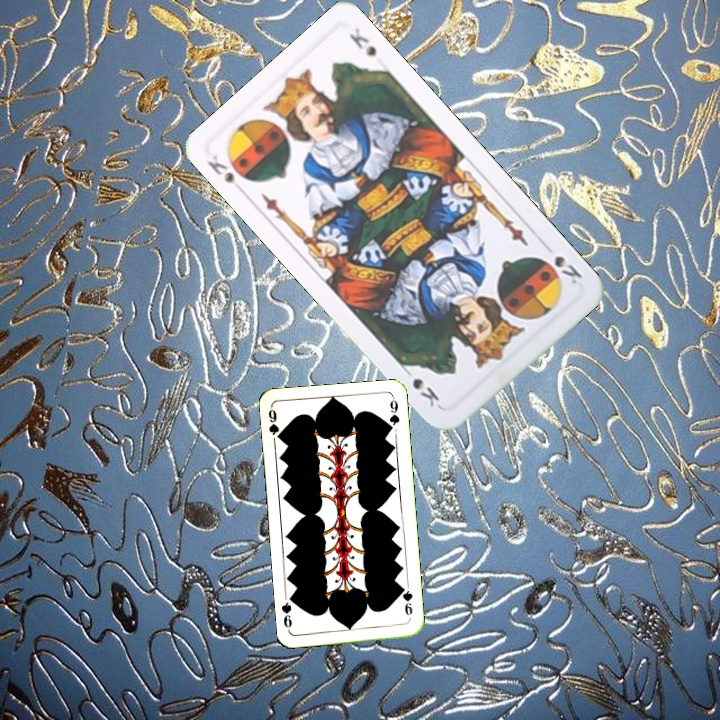G9: (264, 404, 285, 443), (397, 583, 415, 623)
SK: (203, 150, 238, 187), (550, 251, 585, 287)
